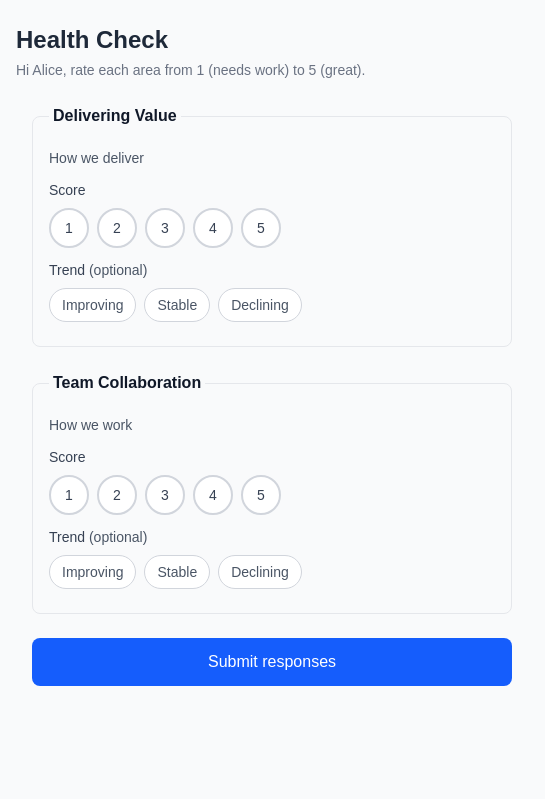
Test: saving again after changing an answer › still says nothing changed when nothing did
The image size is (545, 799).
Check: the element "Delivering Value" is shown, box [32, 104, 512, 347]
Click the radio button labelled "4" below "How we deliver" at (213, 228), box [193, 208, 233, 248]
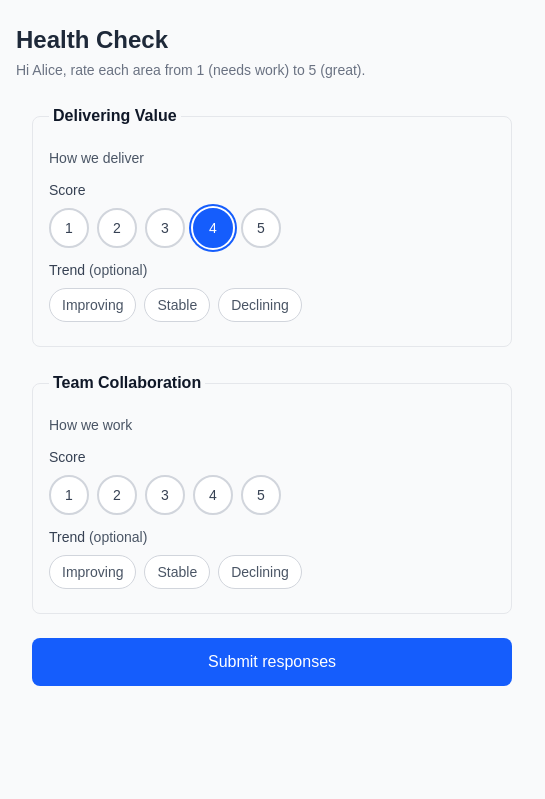
Click the radio button labelled "4" below "How we work" at (213, 495), box [193, 475, 233, 515]
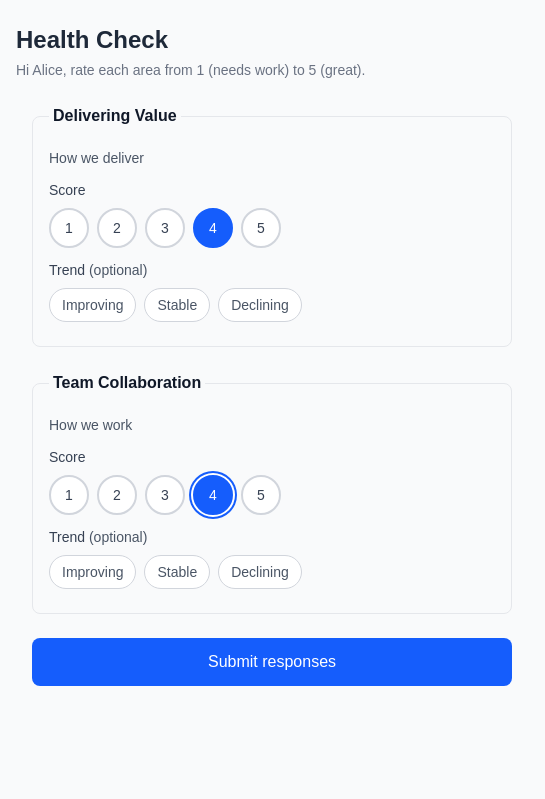
Click the button "Submit responses" at (272, 662), box [32, 638, 512, 686]
(page scrolled)
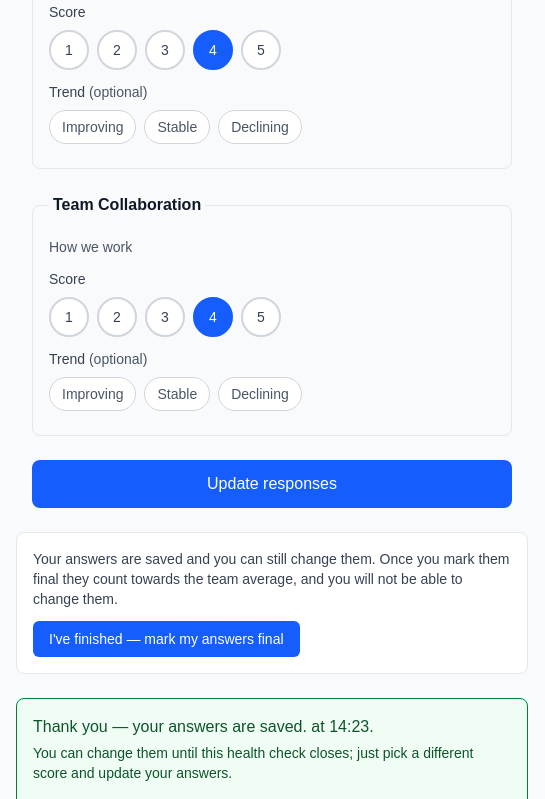
Check: the button "Update responses" is shown
Click the button "Update responses" at (272, 484), box [32, 460, 512, 508]
(page scrolled)
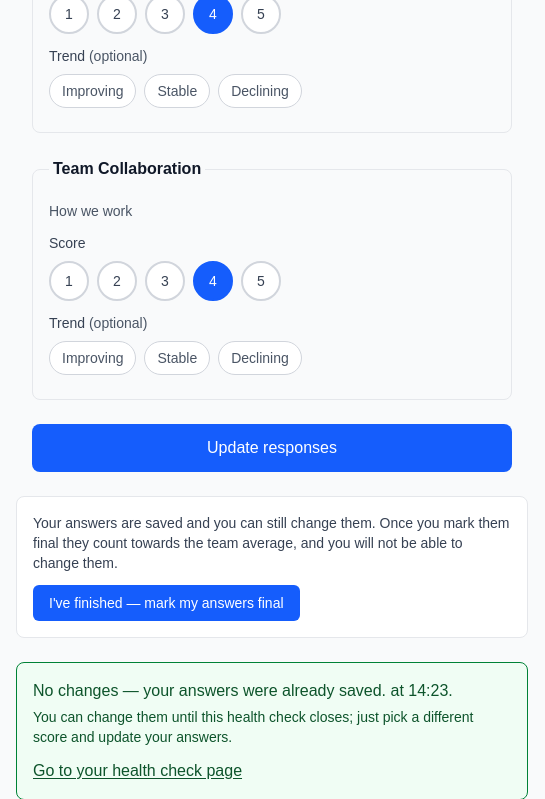
Check: the message shows "No changes", box [33, 682, 386, 699]
